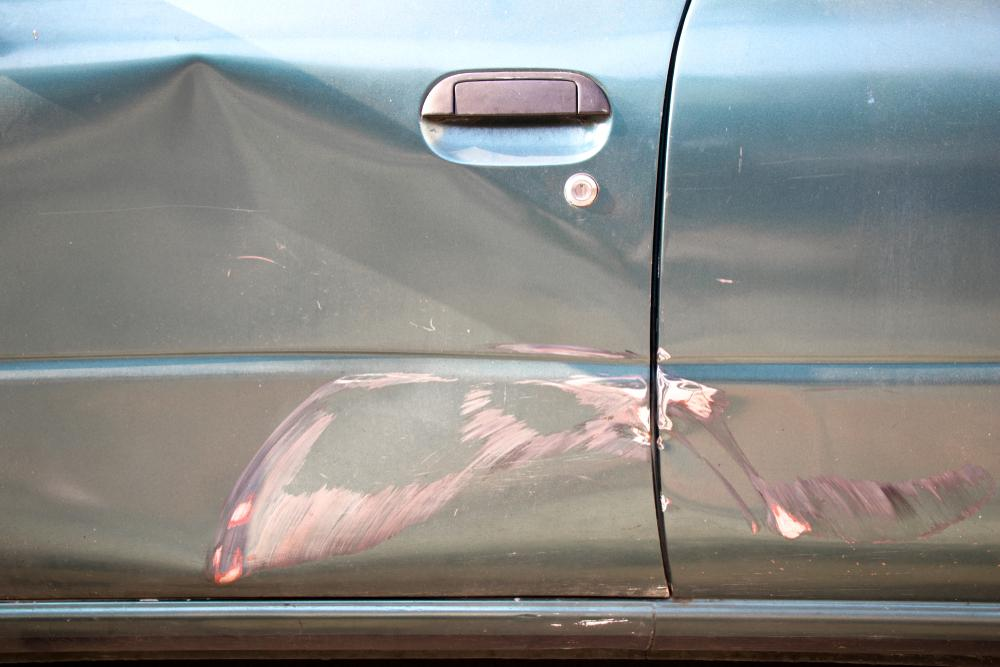dent: (0, 57, 636, 574)
scratch: (657, 342, 1000, 544)
